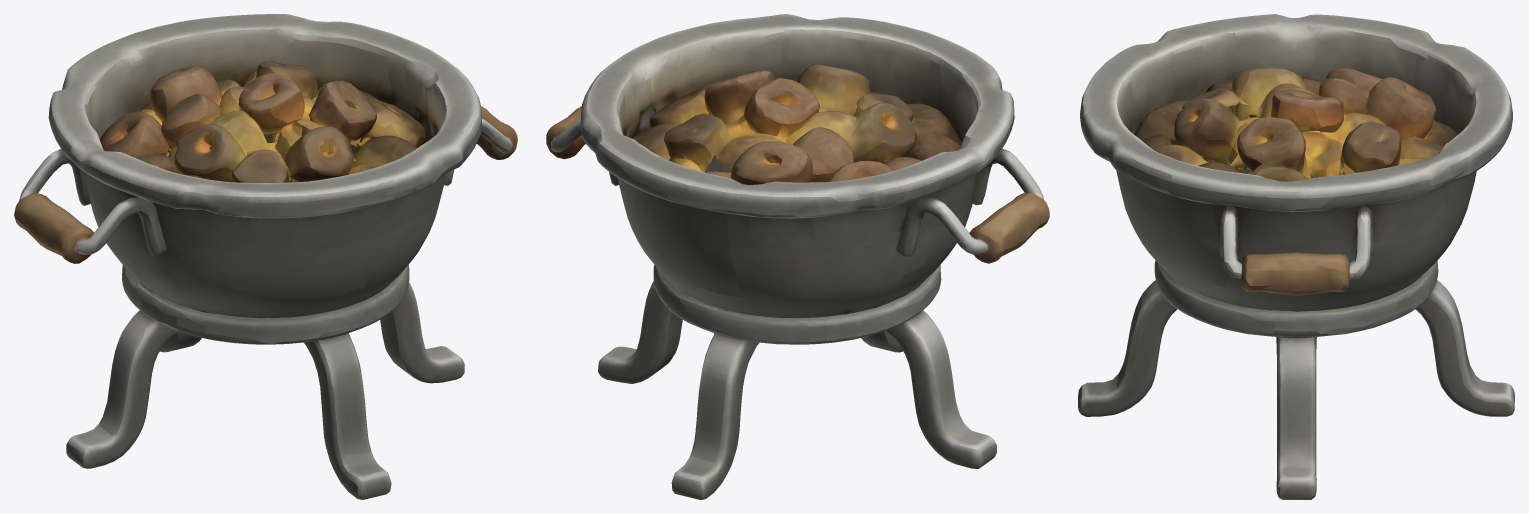
File: coal_brazier.glb
3 renders of one model, left to right at view 1: azimuth 30°, elevation 25°; view 2: azimuth 150°, elevation 25°; view 3: azimuth 270°, elevation 25°, orthographic.
Parts seen in each view (by area): view 1: geometry_0; view 2: geometry_0; view 3: geometry_0.
Boxes of the visible parts, left/top/right/bottom form: geometry_0: left=14, top=14, right=517, bottom=499; geometry_0: left=546, top=14, right=1049, bottom=499; geometry_0: left=1078, top=14, right=1514, bottom=499.
Size of the model in its own units: 0.35 by 0.2423 by 0.295.
Materials: 1 (1 with a texture image).
